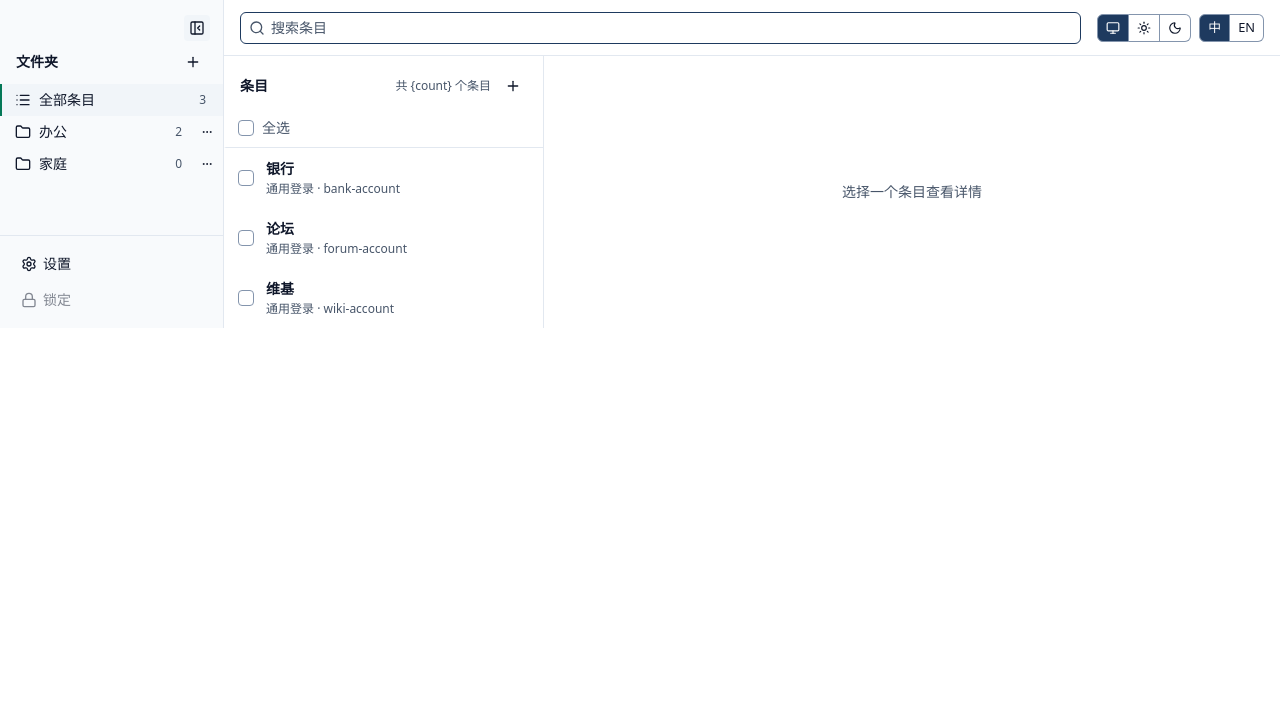
Scenario: 批量摘标签与删除 › 批量删除后侧栏计数更新, 详情里的条目被删时选中相邻条目
The image size is (1280, 720).
Click the button "论坛 通用登录 · forum-account" at (400,238), box top-left (258, 208), bottom-right (543, 268)
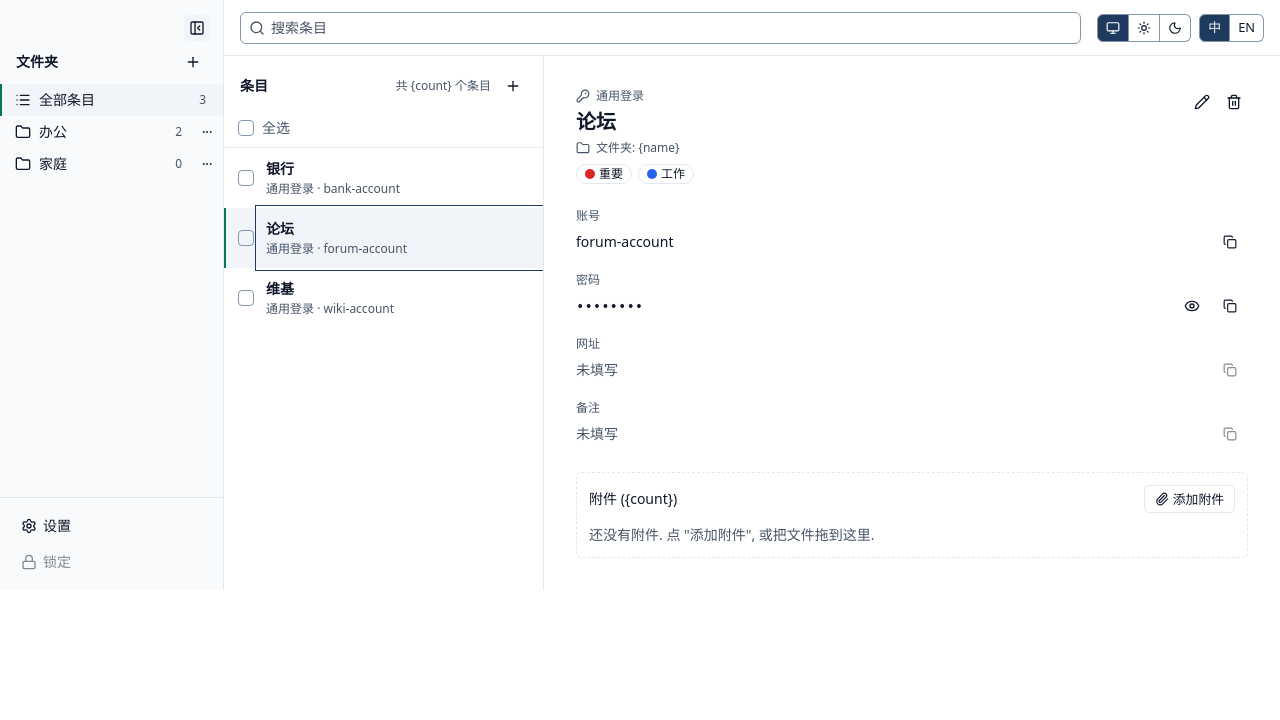
Result: the heading "论坛" is shown at top-left (576, 108), bottom-right (616, 135)
Click the 3rd checkbox at (246,238), box top-left (238, 230), bottom-right (254, 246)
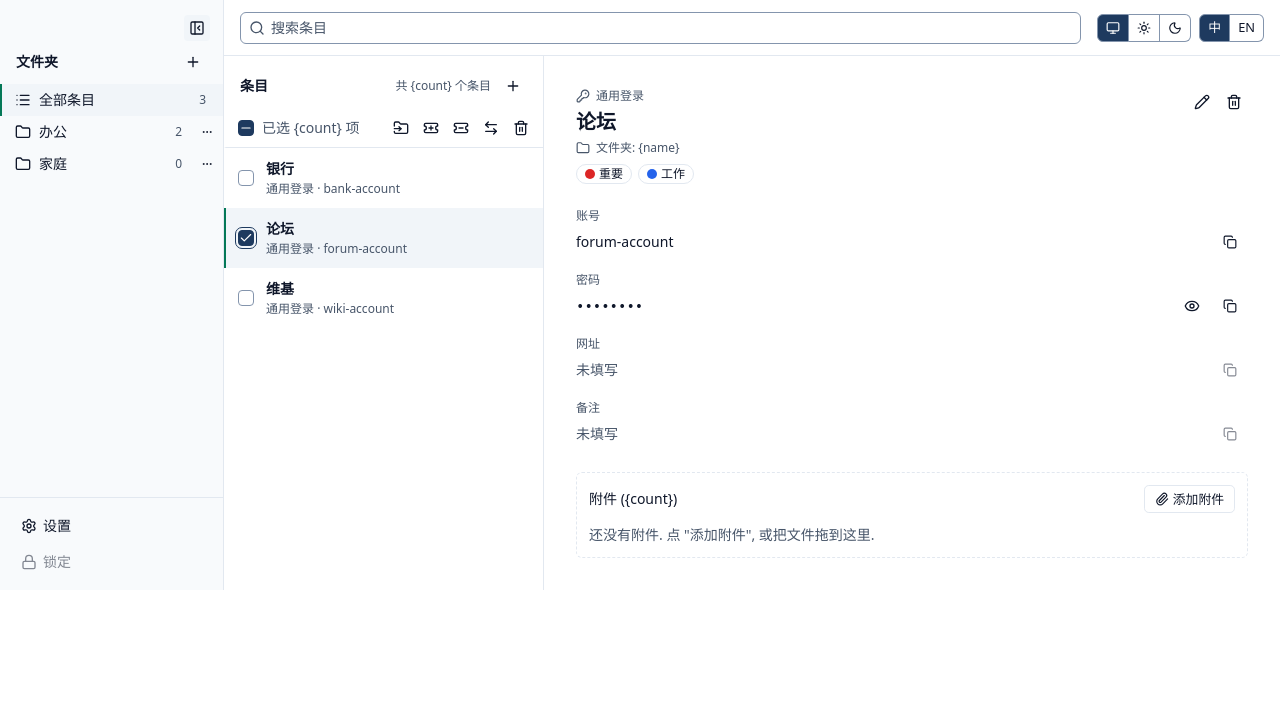
Click the 2nd checkbox at (246,178), box top-left (238, 170), bottom-right (254, 186)
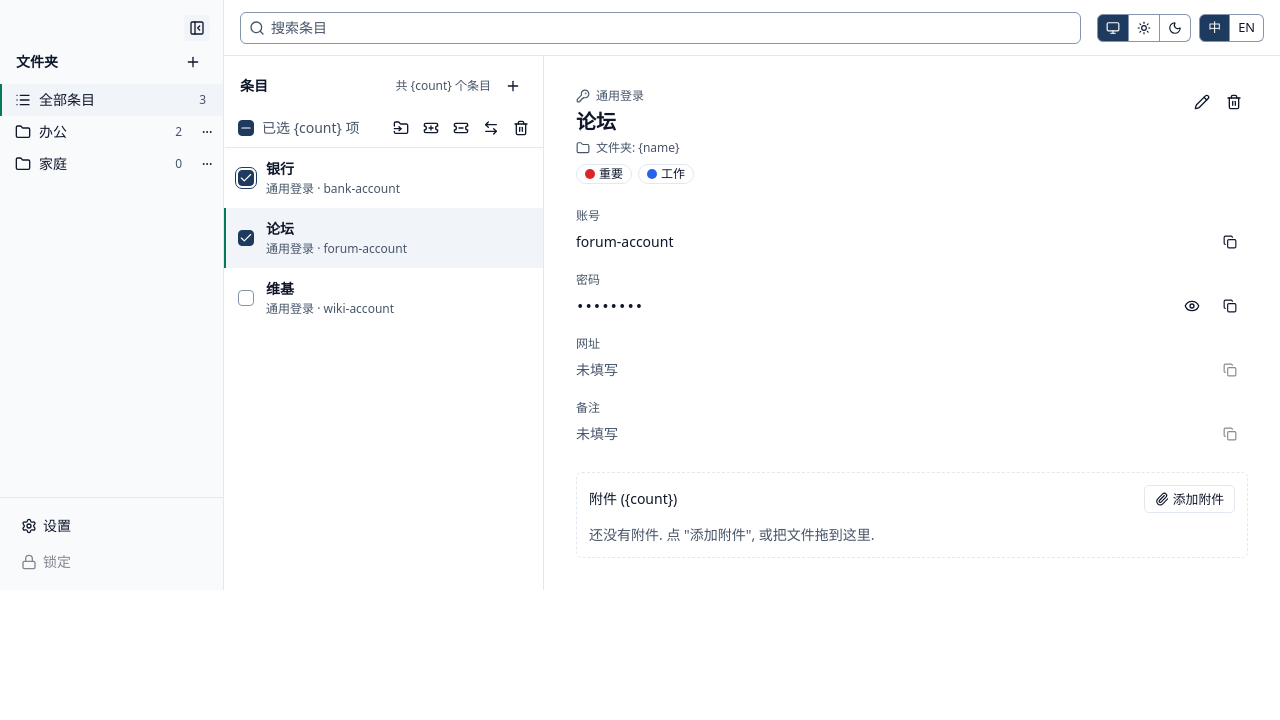
Click the button named "删除选中的条目" at (521,128), box top-left (507, 114), bottom-right (535, 142)
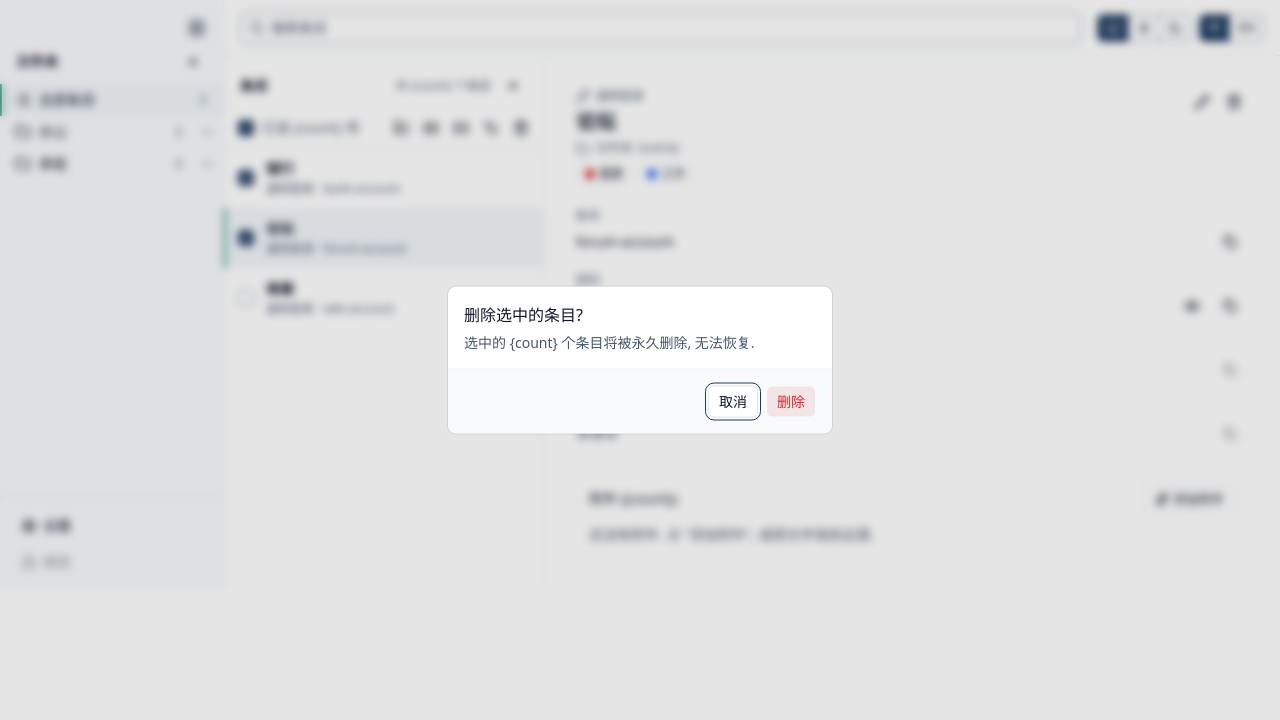
Click the button "删除" at (791,402), box top-left (766, 386), bottom-right (816, 418)
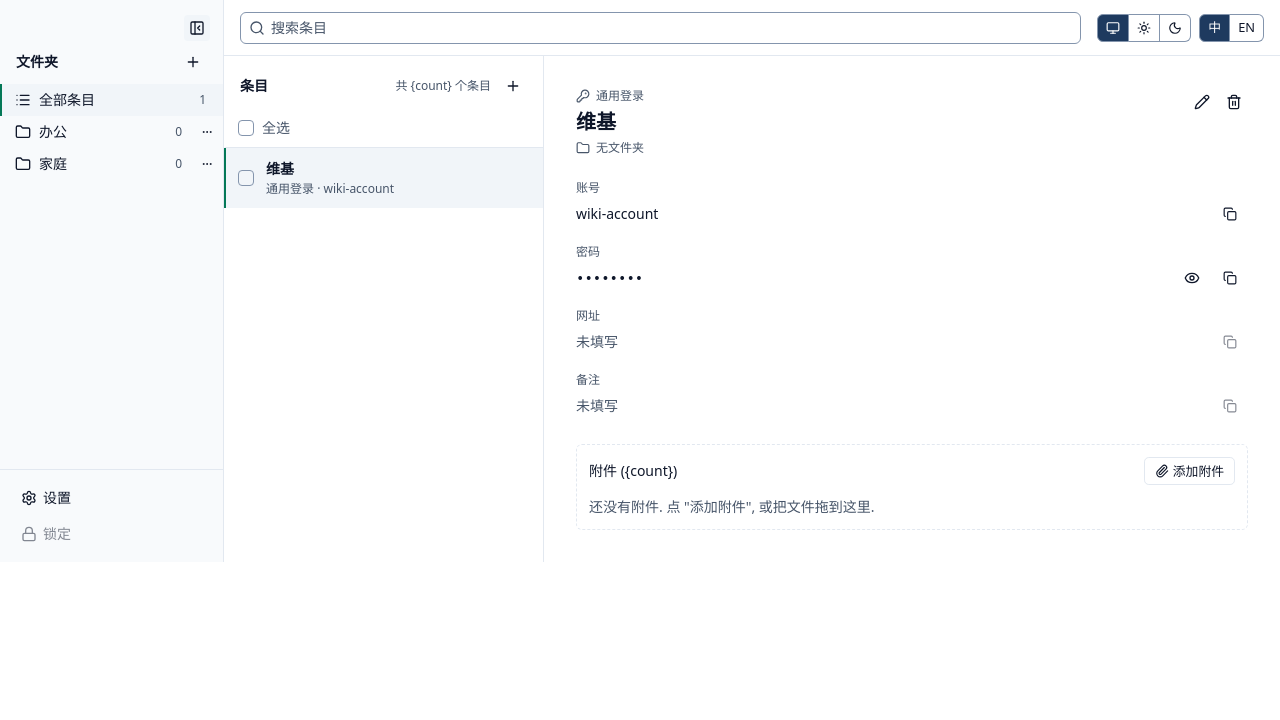
Result: the heading "维基" is shown at top-left (576, 108), bottom-right (616, 135)
